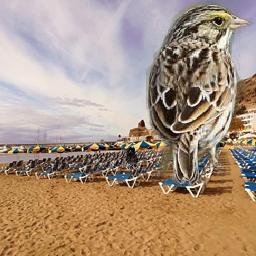Sparrow: (146, 2, 254, 186)
Woodpecker: (122, 146, 142, 171)
